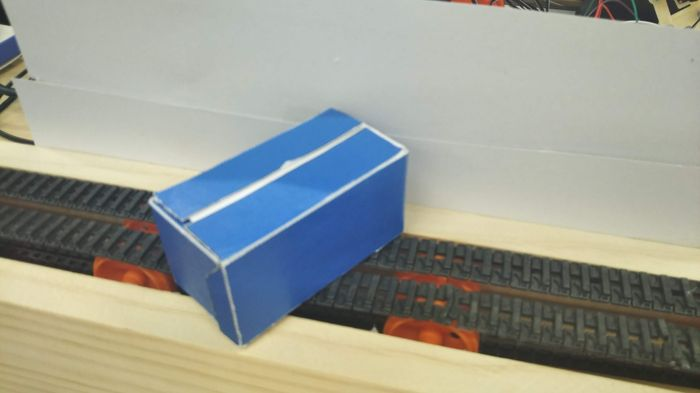box3: (143, 105, 409, 349)
